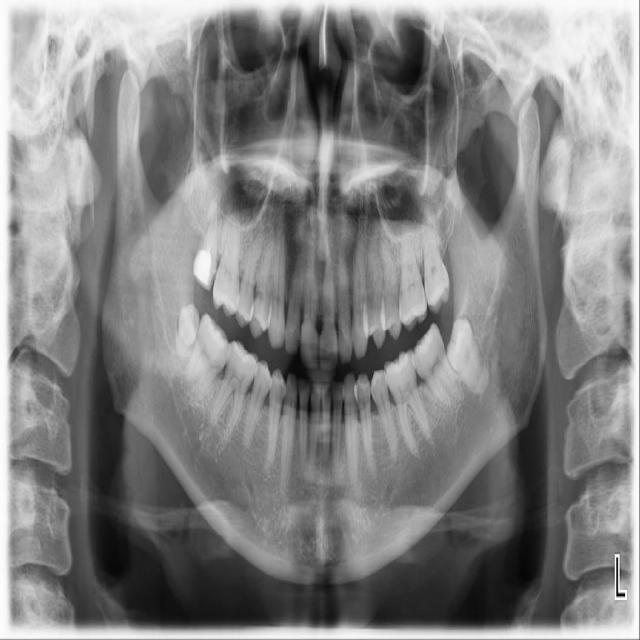Filling: (193, 249, 217, 292)
impacted tooth: (448, 318, 489, 398), (174, 305, 200, 354)
